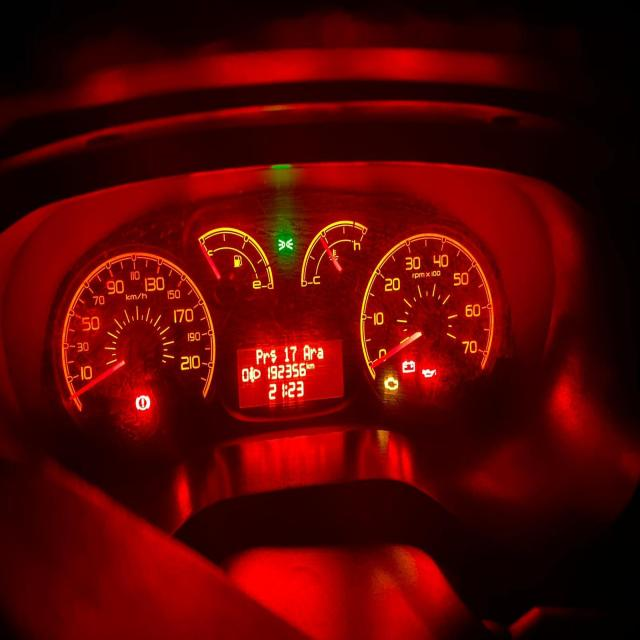odometer: (237, 338, 349, 411)
